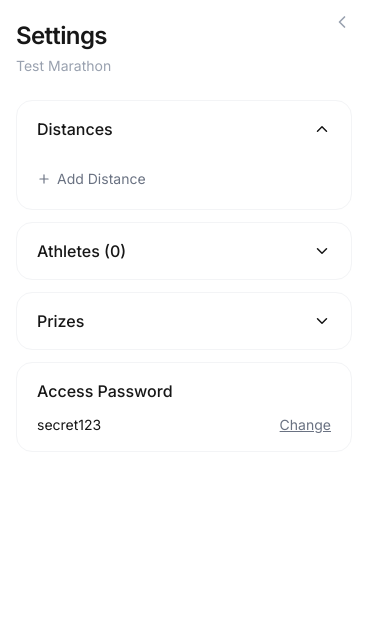
Settings Page — Access Password › shows "Password cannot be empty" for blank input
Click the button "Change".
click(305, 425)  # box [280, 415, 331, 435]
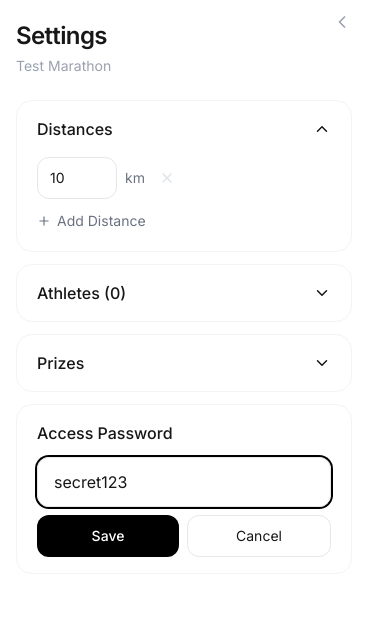
Clear the field showing "secret123" at x=184, y=482, box [37, 457, 331, 507]
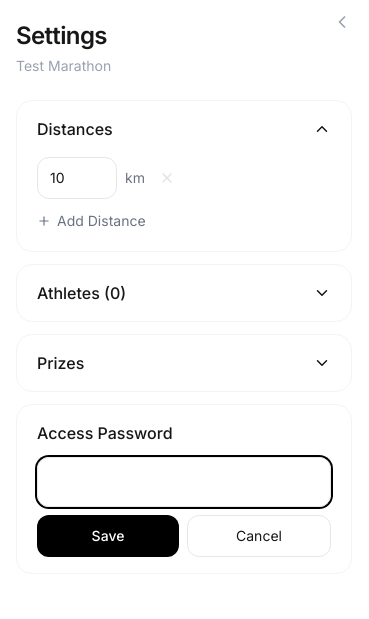
Click the button "Save".
click(108, 536)  # box [37, 515, 179, 557]
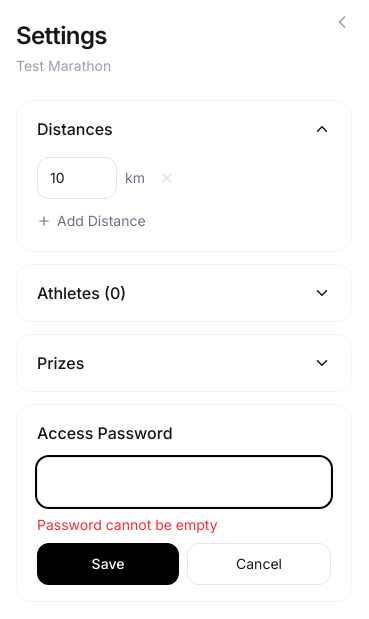
expect the text "Password cannot be empty" is shown: met, box [37, 516, 218, 533]
